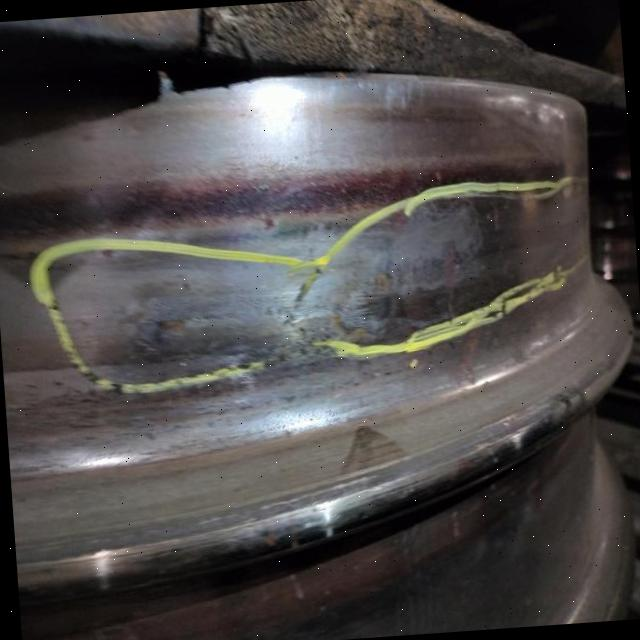flat: (109, 189, 536, 381)
